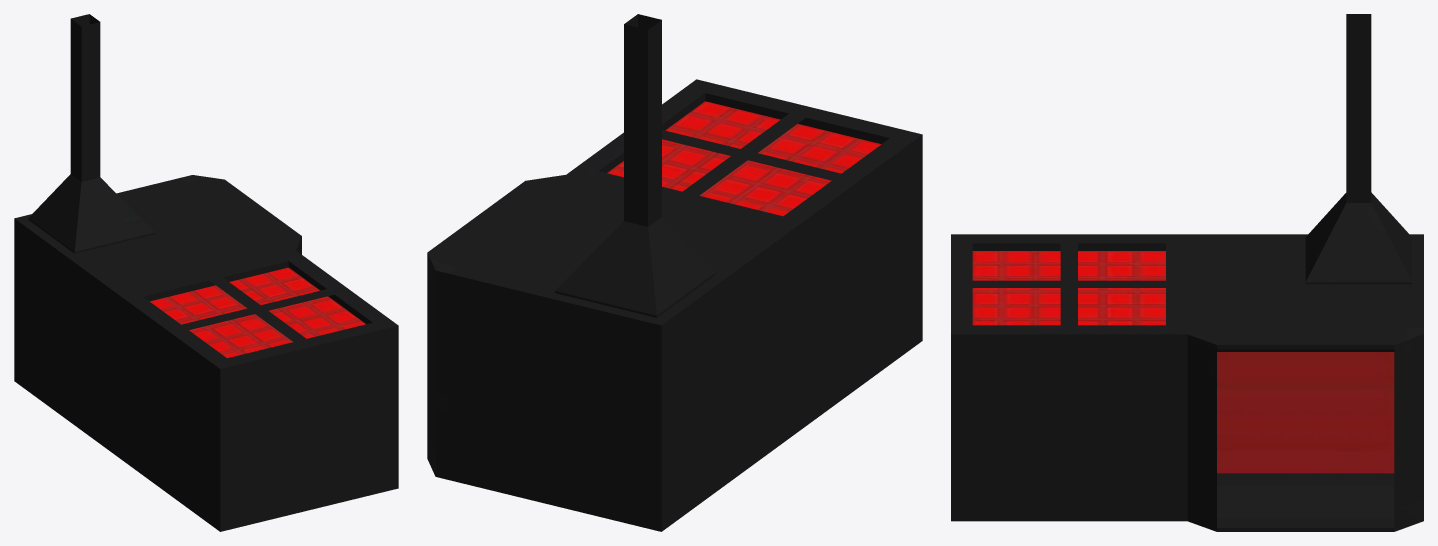
The model's file is cookingrange.glb.
The picture shows the model from 3 angles, left to right: view 1: azimuth 30°, elevation 25°; view 2: azimuth 150°, elevation 25°; view 3: azimuth 270°, elevation 25°; orthographic projection. The views are drawn at different scales.
Parts seen in each view (by area): view 1: cookingrange_joined.010; view 2: cookingrange_joined.010; view 3: cookingrange_joined.010.
Part boxes in pixels (left/top/right/bottom): cookingrange_joined.010: left=14, top=14, right=398, bottom=531; cookingrange_joined.010: left=427, top=14, right=922, bottom=531; cookingrange_joined.010: left=951, top=14, right=1423, bottom=531.
Bounding box in the file's own units: 1 × 1.8 × 1.81.
Materials: 1 (1 with a texture image).
